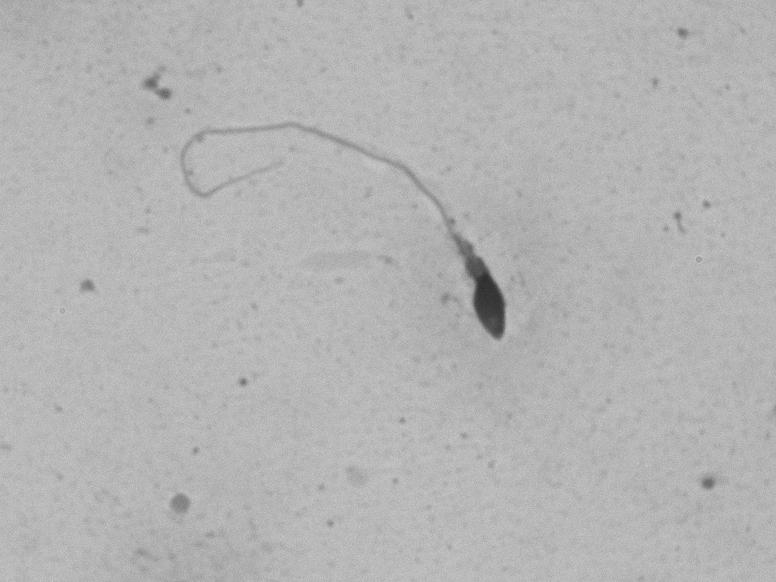Abnormal: (162, 90, 557, 397)
